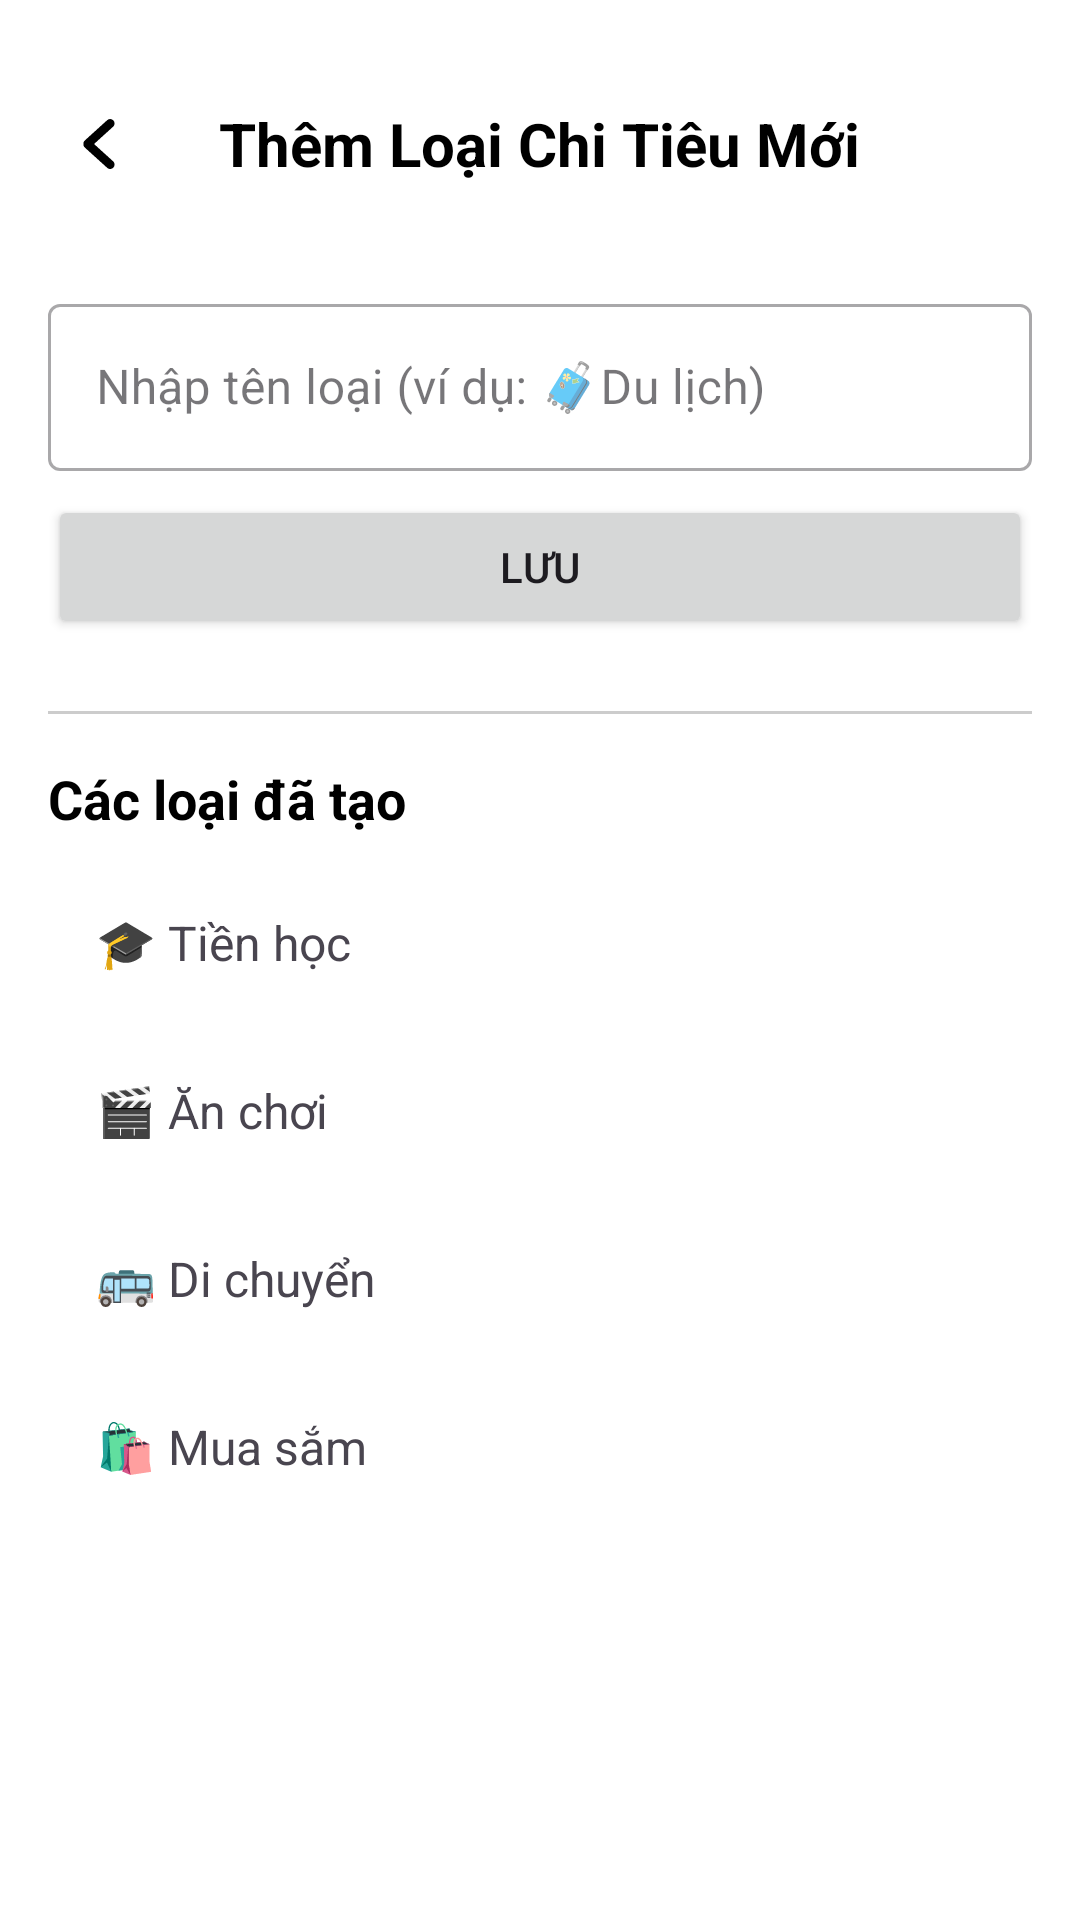

Where to tap for icons on this 1080*1920 app screen, as (x=x, y=y):
chevron left: (x=99, y=144)
